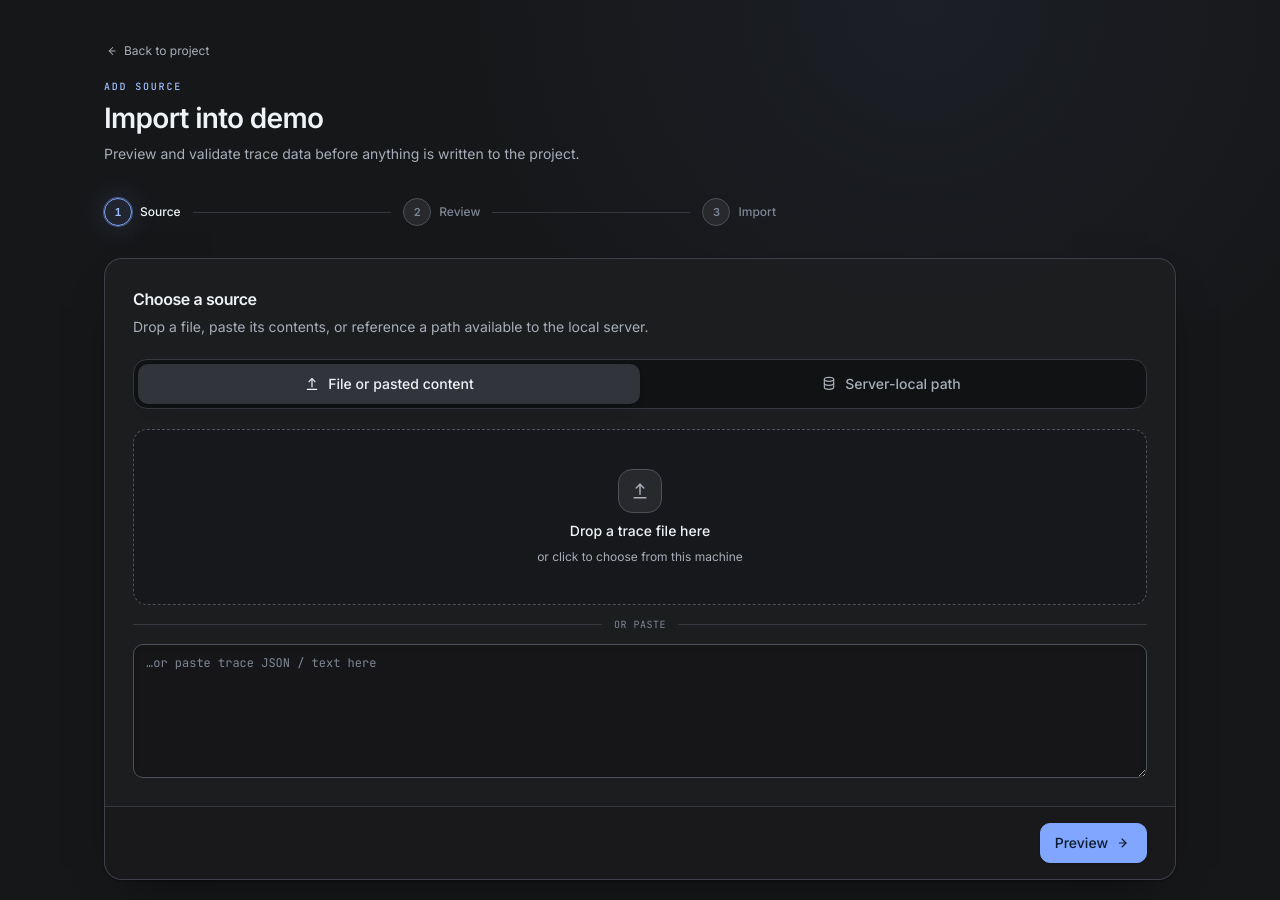
it: ImportWizard › shows the job error on an import failure
Type "some content" into the text box with placeholder "…or paste trace JSON / text here". click: (640, 711)
box: [133,644,1147,778]
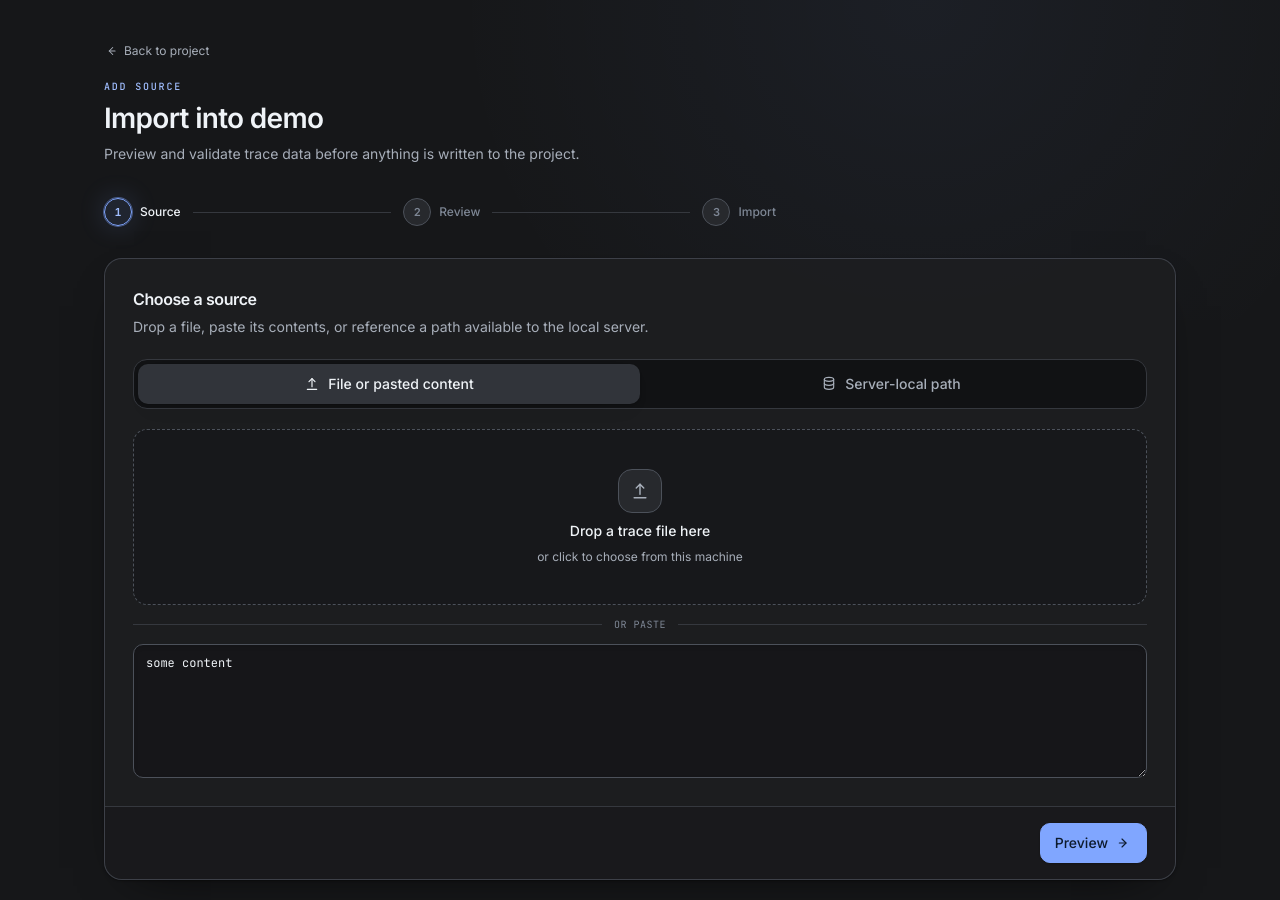
Click the button "Preview". click: click(1093, 843)
box: [1040,823,1147,863]
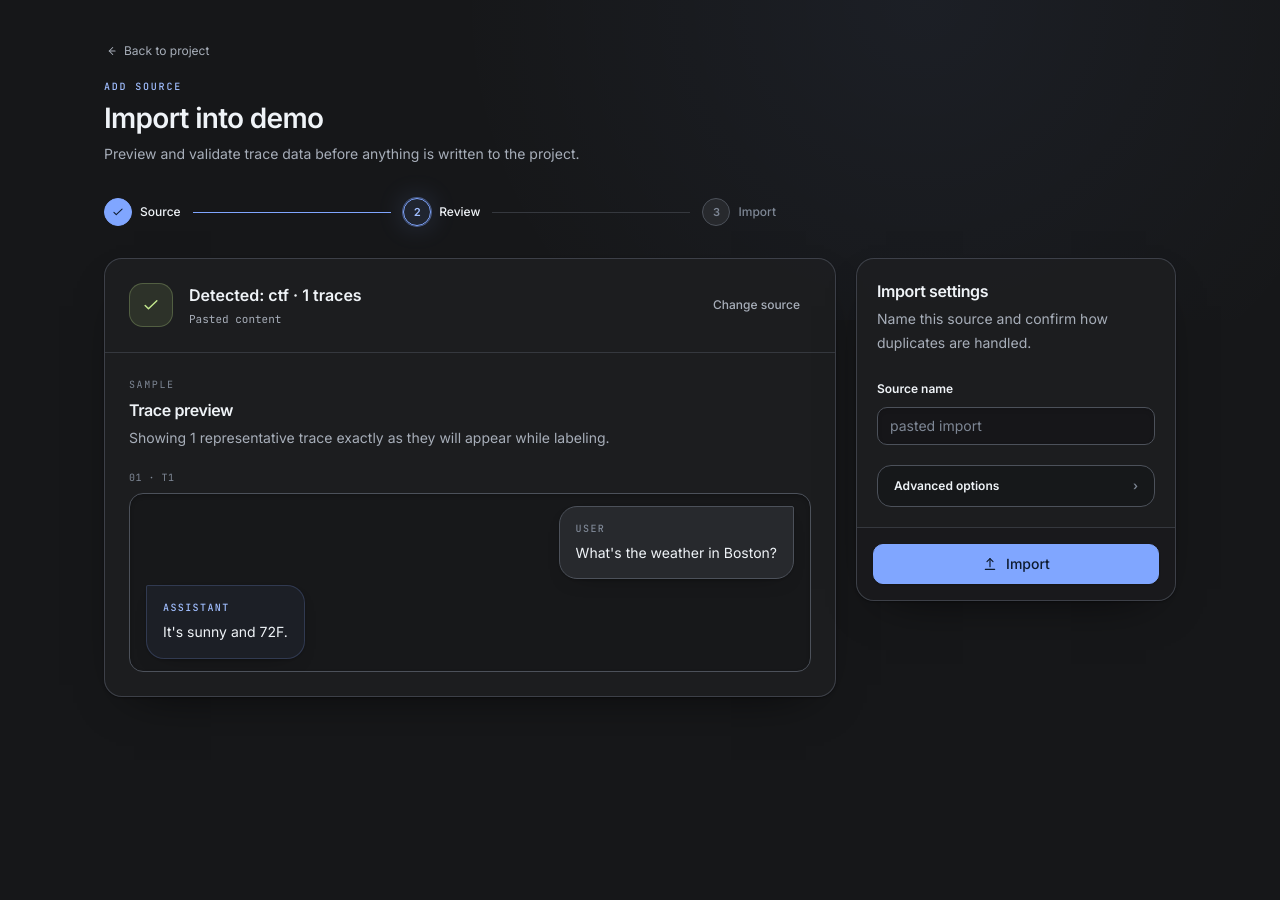
Result: the text "Detected: ctf · 1 traces" is shown at [189,285,362,305]
Click the button "Import". click: click(1016, 564)
box: [873,544,1159,584]
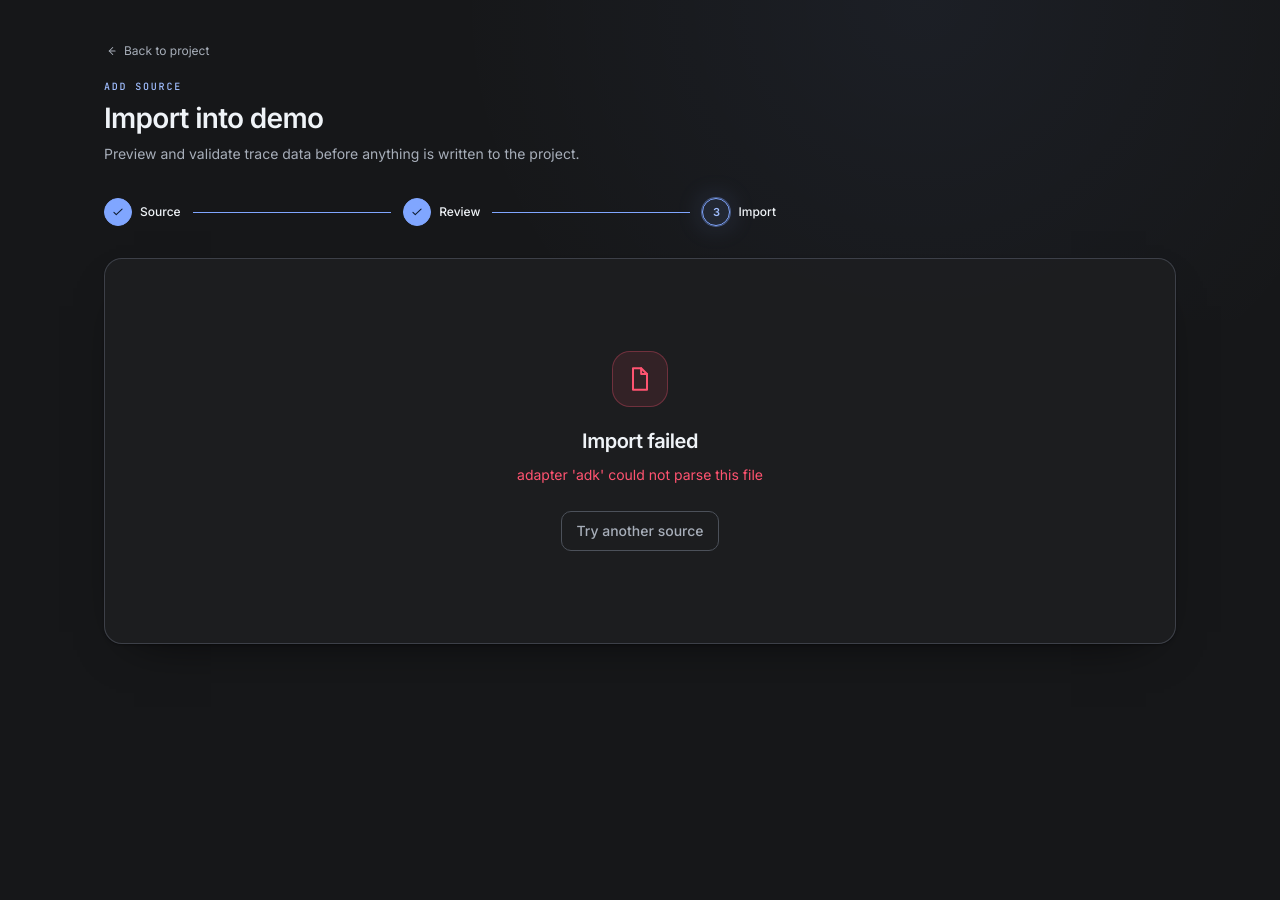
Result: the text "adapter 'adk' could not parse this file" is shown at [517,466,763,483]
